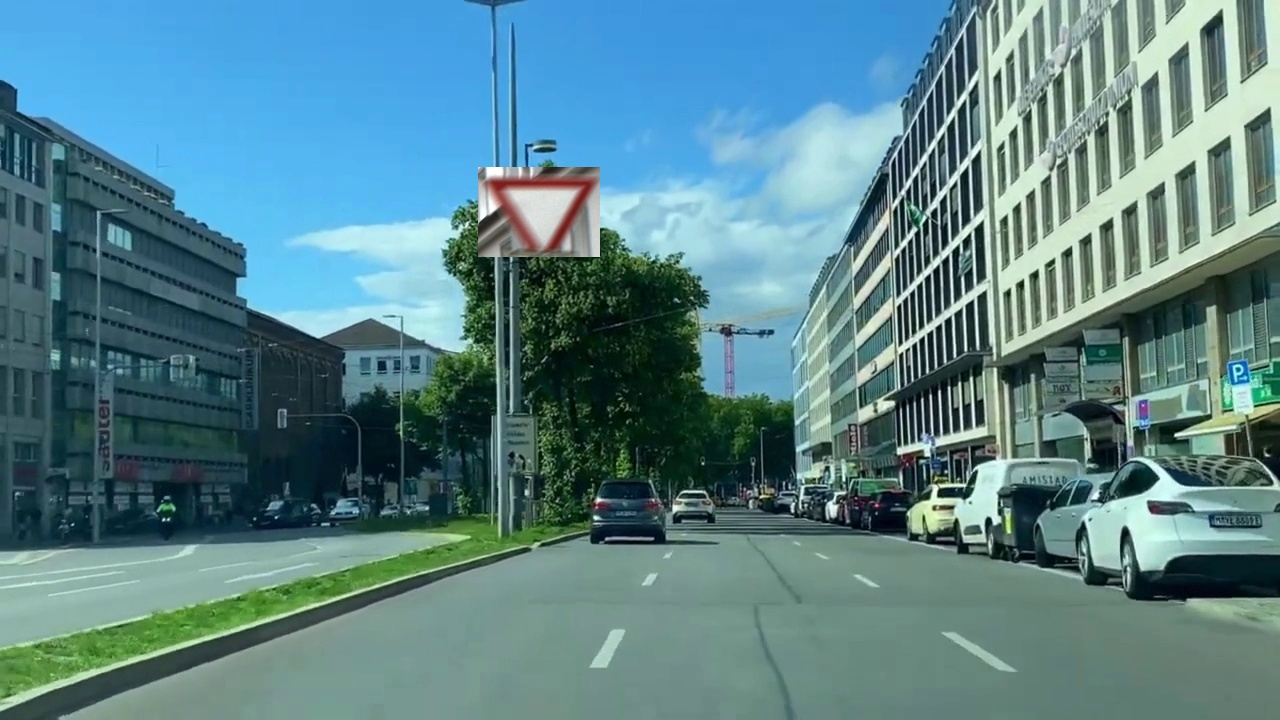Yield: (478, 167, 600, 257)
